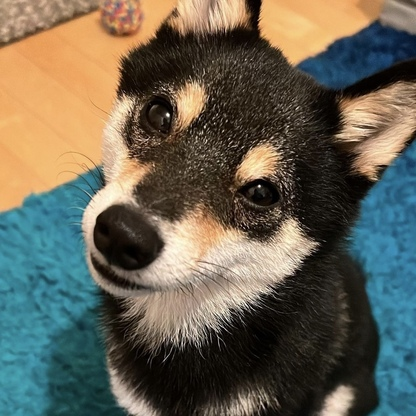shiba: (76, 1, 416, 416)
